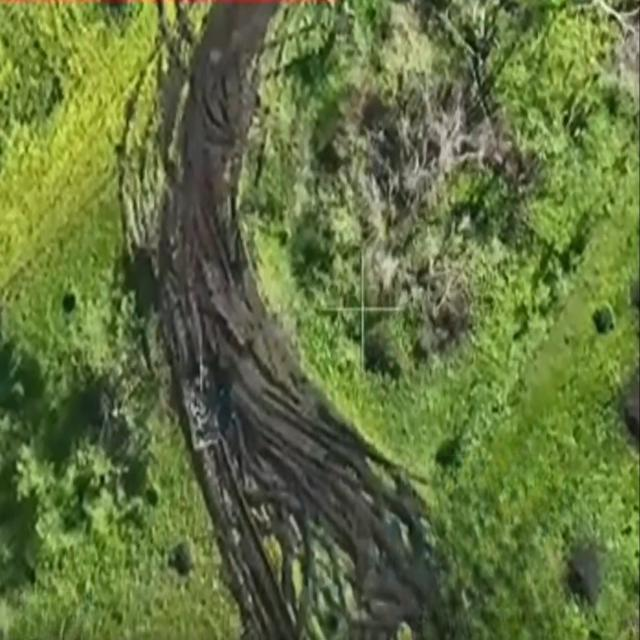MBT: (182, 342, 226, 457)
